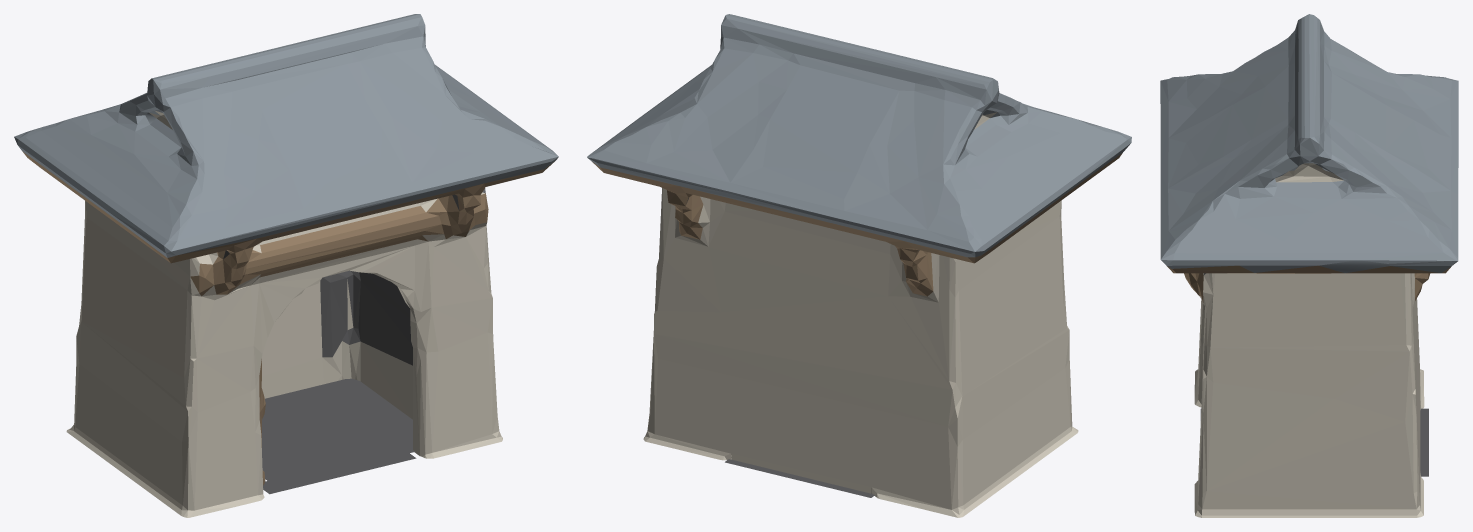
The picture shows the model from 3 angles, left to right: view 1: azimuth 30°, elevation 25°; view 2: azimuth 150°, elevation 25°; view 3: azimuth 270°, elevation 25°; orthographic projection. The views are drawn at different scales.
Parts seen in each view (by area): view 1: geometry_0; view 2: geometry_0; view 3: geometry_0.
Boxes of the visible parts, bbox=[...] form: geometry_0: bbox=[14, 14, 558, 517]; geometry_0: bbox=[587, 14, 1131, 517]; geometry_0: bbox=[1160, 14, 1458, 517].
Bounding box in the file's own units: 0.9964 × 0.9427 × 0.6914.
